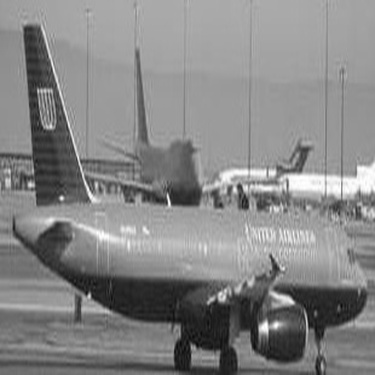airplane: (8, 14, 366, 366), (1, 34, 275, 209), (200, 126, 320, 195), (252, 155, 374, 215)
